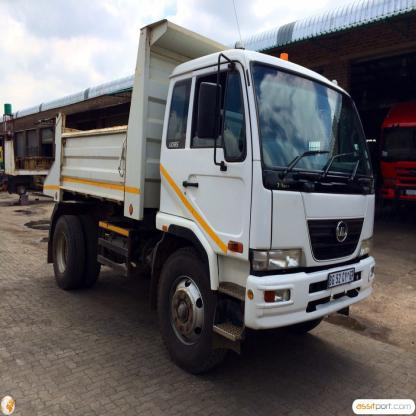dump_truck: (31, 10, 377, 379)
